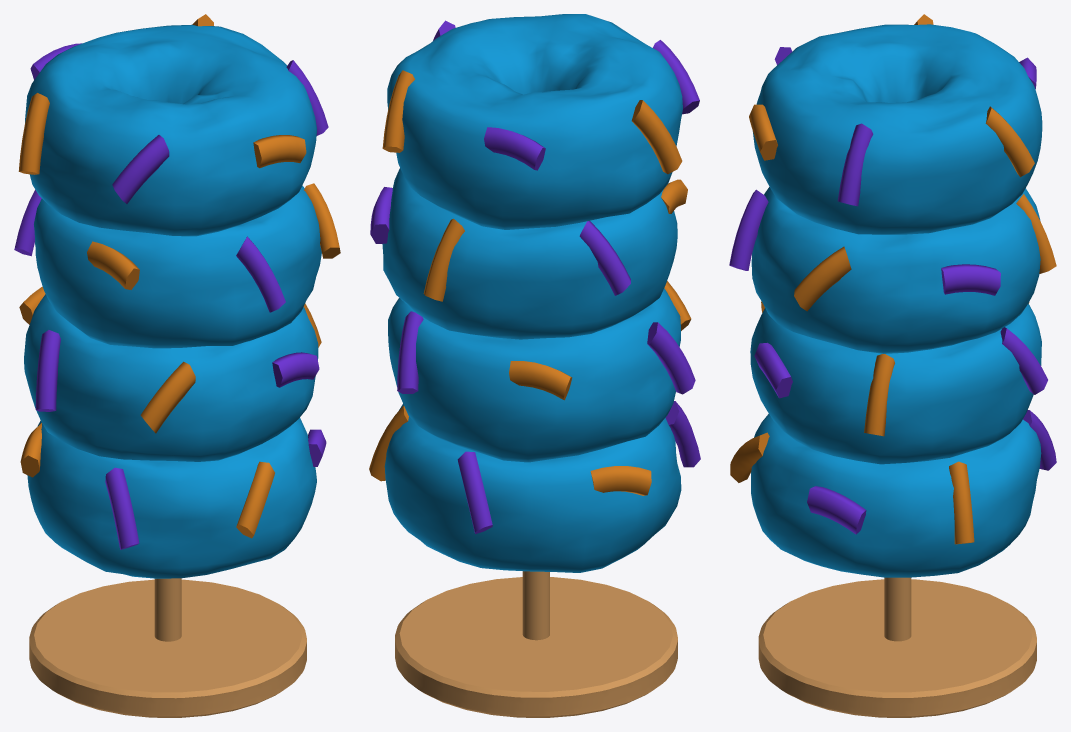
The model's file is Donut-Blue.fbx.
3 renders of one model, left to right at view 1: azimuth 30°, elevation 25°; view 2: azimuth 150°, elevation 25°; view 3: azimuth 270°, elevation 25°, orthographic.
Parts seen in each view (by area): view 1: nurbsToPoly013, Cylinder050, nurbsToPoly012, nurbsToPoly014, nurbsToPoly011, Cylinder047, Cylinder035, Cylinder046, Cylinder034, Cylinder028, Cylinder040, Cylinder029 (+8 smaller); view 2: nurbsToPoly013, Cylinder050, nurbsToPoly011, nurbsToPoly014, nurbsToPoly012, Cylinder034, Cylinder046, Cylinder030, Cylinder042, Cylinder033, Cylinder045, Cylinder027 (+8 smaller); view 3: nurbsToPoly013, Cylinder050, nurbsToPoly012, nurbsToPoly014, nurbsToPoly011, Cylinder041, Cylinder031, Cylinder043, Cylinder032, Cylinder040, Cylinder044, Cylinder026 (+7 smaller).
Boxes of the visible parts, bbox=[...] form: nurbsToPoly013: bbox=[25, 24, 316, 236]; Cylinder050: bbox=[29, 578, 306, 717]; nurbsToPoly012: bbox=[34, 185, 321, 348]; nurbsToPoly014: bbox=[27, 418, 316, 578]; nurbsToPoly011: bbox=[24, 294, 318, 461]; Cylinder047: bbox=[112, 135, 169, 203]; Cylinder035: bbox=[140, 361, 195, 433]; Cylinder046: bbox=[18, 93, 49, 174]; Cylinder034: bbox=[35, 330, 60, 411]; Cylinder028: bbox=[105, 467, 139, 549]; Cylinder040: bbox=[236, 236, 285, 312]; Cylinder029: bbox=[236, 461, 274, 538]; nurbsToPoly013: bbox=[387, 14, 682, 229]; Cylinder050: bbox=[395, 571, 677, 717]; nurbsToPoly011: bbox=[388, 288, 680, 462]; nurbsToPoly014: bbox=[384, 404, 681, 572]; nurbsToPoly012: bbox=[382, 168, 677, 339]; Cylinder034: bbox=[647, 322, 695, 394]; Cylinder046: bbox=[631, 100, 682, 174]; Cylinder030: bbox=[457, 451, 492, 533]; Cylinder042: bbox=[579, 220, 630, 295]; Cylinder033: bbox=[509, 361, 572, 400]; Cylinder045: bbox=[484, 127, 545, 170]; Cylinder027: bbox=[590, 466, 651, 495]; nurbsToPoly013: bbox=[752, 24, 1042, 234]; Cylinder050: bbox=[758, 577, 1036, 717]; nurbsToPoly012: bbox=[751, 187, 1040, 353]; nurbsToPoly014: bbox=[751, 414, 1041, 577]; nurbsToPoly011: bbox=[750, 303, 1041, 464]; Cylinder041: bbox=[794, 246, 851, 311]; Cylinder031: bbox=[807, 486, 866, 534]; Cylinder043: bbox=[941, 264, 1000, 295]; Cylinder032: bbox=[864, 354, 894, 436]; Cylinder040: bbox=[729, 189, 768, 270]; Cylinder044: bbox=[837, 123, 873, 206]; Cylinder026: bbox=[949, 461, 974, 544].
Bounding box in the file's own units: 4.34 × 8.67 × 4.33.
